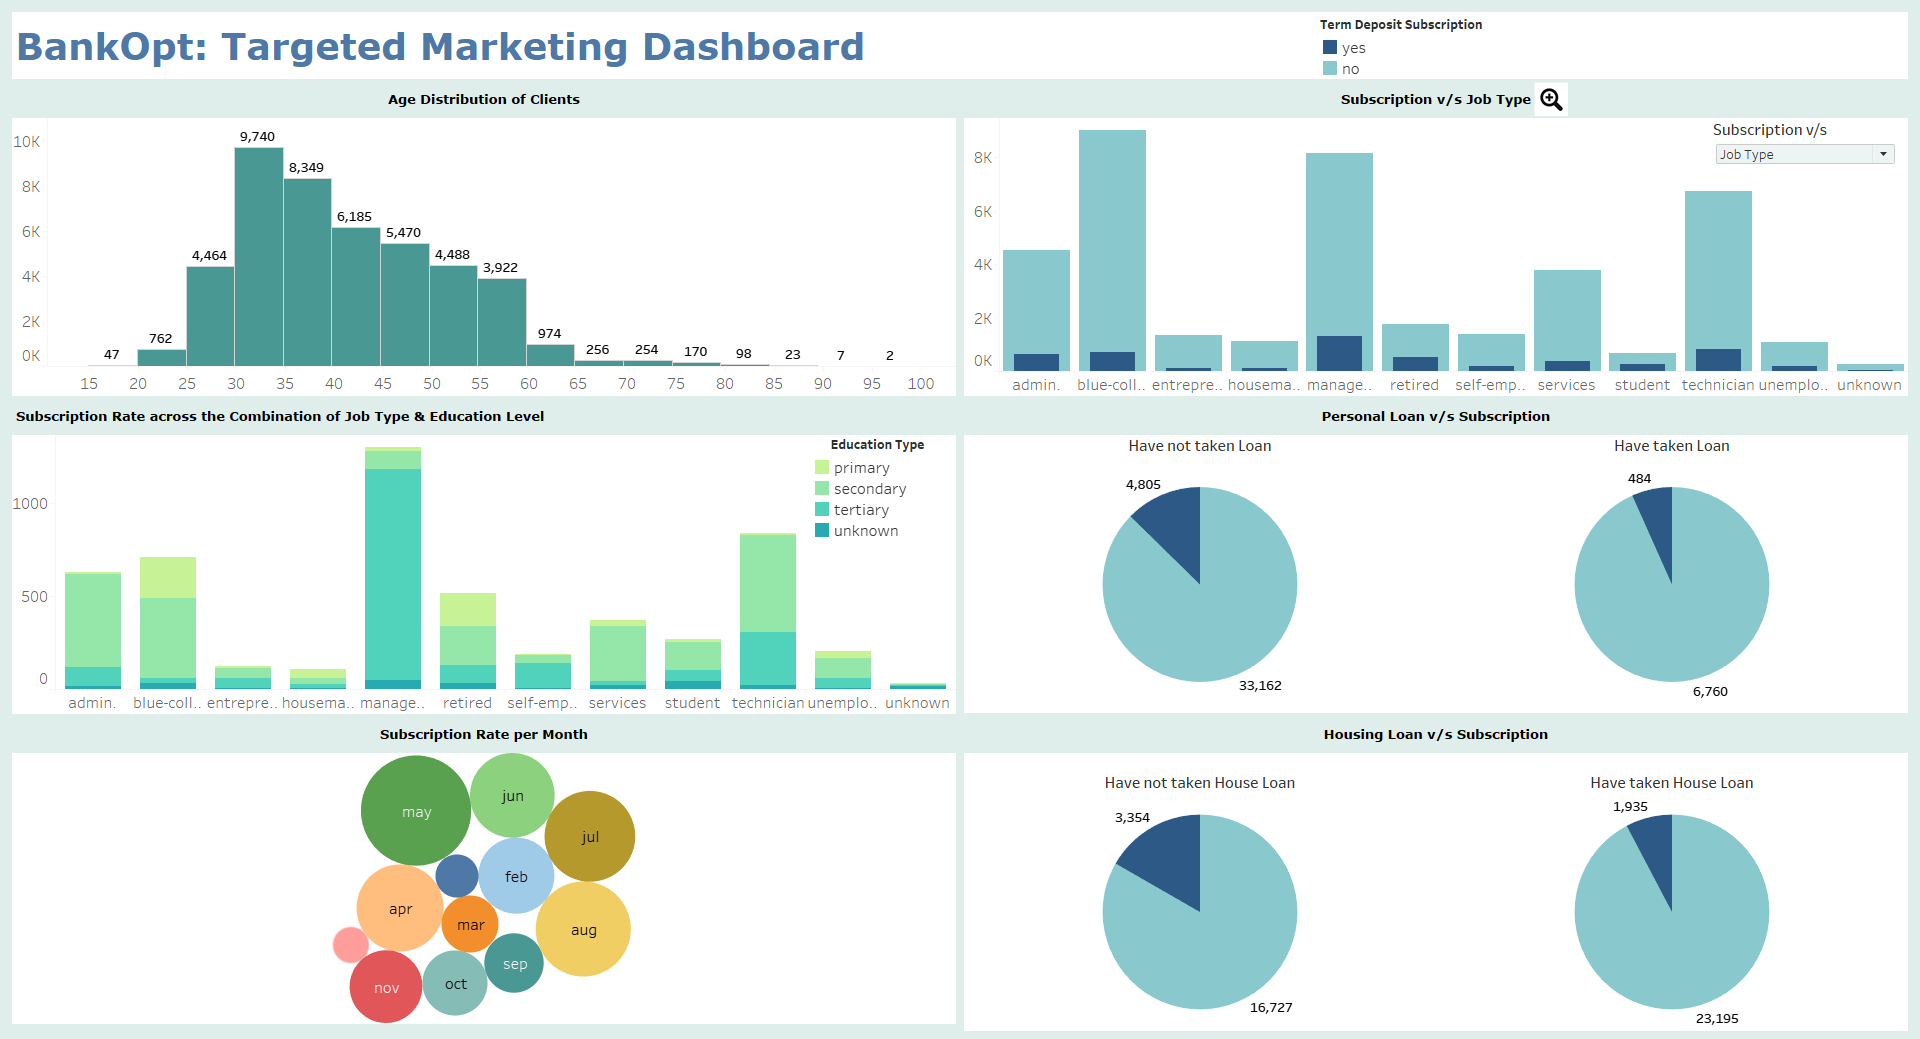

The page's visual inventory and layout, read from the dashboard file:
{"tool":"tableau","page":{"name":"Dashboard 1","canvas":[1000,1000],"units":"permille","ordinal":0},"visuals":[{"type":"title","box":[4.8,8.8,990.3,82.3]},{"type":"legend","title":"Subscription v/s","param":"[federated.1x5k2uy1qcwdc513o0c581a4mbil].[none:y:nk]","box":[687.4,14.3,118.9,70.2]},{"type":"worksheet","title":"Age distribution","mark":"Automatic","rows":["age"],"cols":["Age (bin)"],"box":[4.8,91.1,495.2,299.3]},{"type":"worksheet","title":"Subscription v/s","mark":"Automatic","rows":["y"],"cols":["Calculation_1023161598090899456"],"box":[500,91.1,495.2,299.7]},{"type":"parameter","param":"[Parameters].[Parameter 1]","box":[892,120.8,96.6,52.7]},{"type":"dashboard-object","box":[819.6,133.9,44.1,32.9]},{"type":"worksheet","title":"Combination","mark":"Bar","rows":["y"],"cols":["job"],"box":[4.8,390.4,495.2,300.9]},{"type":"worksheet","title":"Personal Loan","mark":"Pie","cols":["loan"],"box":[500,390.8,495.2,300.2]},{"type":"legend","title":"Combination","param":"[federated.1x5k2uy1qcwdc513o0c581a4mbil].[none:education:nk]","box":[426.1,420.4,68.2,116.4]},{"type":"worksheet","title":"Housing Loan","mark":"Pie","cols":["housing"],"box":[500,691,495.2,300.2]},{"type":"worksheet","title":"Month","mark":"Circle","box":[4.8,691.3,495.2,299.9]}]}

Visuals, with their boxes on the dashboard's canvas, which has no fixed pixel size, in thousandths of its width and height (x1, y1, x2, y2). These are canvas units, not pixel positions in the 1920x1039 screenshot, which may show the page scaled, cropped or inside an application window:
title: 5, 9, 995, 91
"Subscription v/s" legend: 687, 14, 806, 84
"Age distribution" worksheet: 5, 91, 500, 390
"Subscription v/s" worksheet: 500, 91, 995, 391
parameter: 892, 121, 989, 174
dashboard-object: 820, 134, 864, 167
"Combination" worksheet (Bar marks): 5, 390, 500, 691
"Personal Loan" worksheet (Pie marks): 500, 391, 995, 691
"Combination" legend: 426, 420, 494, 537
"Housing Loan" worksheet (Pie marks): 500, 691, 995, 991
"Month" worksheet (Circle marks): 5, 691, 500, 991
